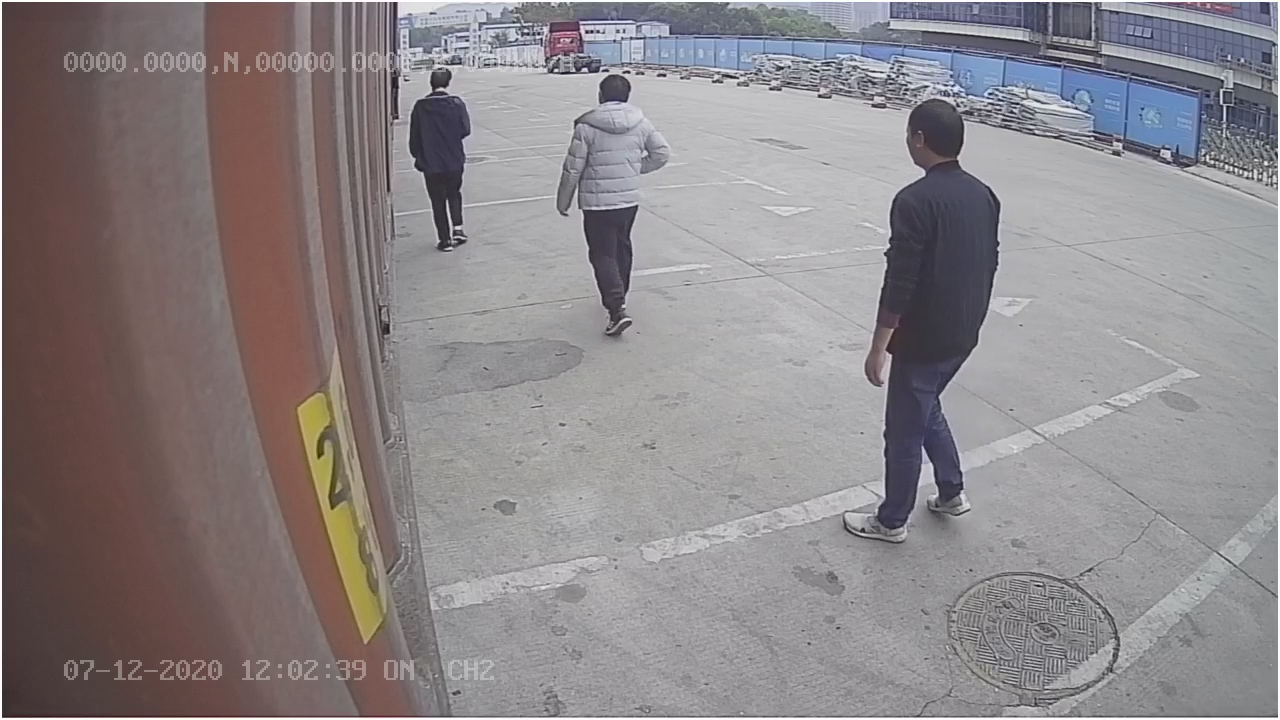person: (837, 95, 1005, 544), (554, 73, 673, 342)
